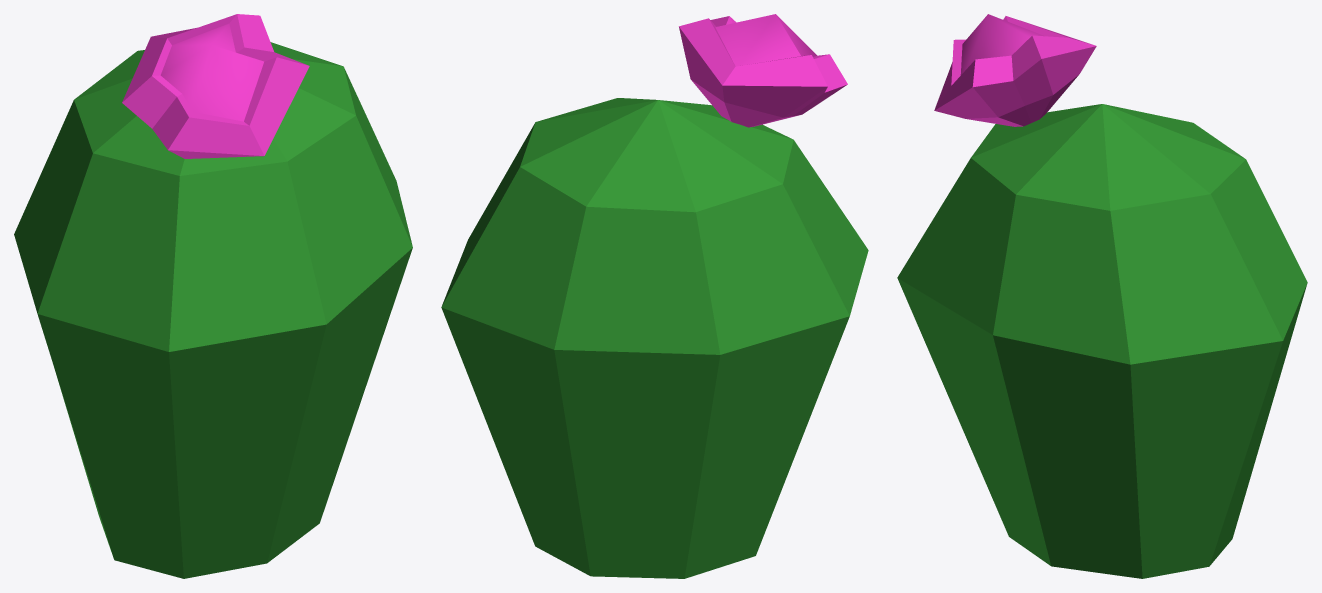
The model's file is Mini.FBX.
3 views of the same model, side by side, from view 1: azimuth 30°, elevation 25°; view 2: azimuth 150°, elevation 25°; view 3: azimuth 270°, elevation 25° (orthographic). The views are drawn at different scales.
Parts seen in each view (by area): view 1: Sphere001; view 2: Sphere001; view 3: Sphere001.
Boxes of the visible parts, box(x1,y1,x2,y2) form: Sphere001: box(14, 14, 412, 578); Sphere001: box(441, 14, 868, 578); Sphere001: box(897, 14, 1307, 578).
Bounding box in the file's own units: 51.05 × 68.55 × 51.05.
